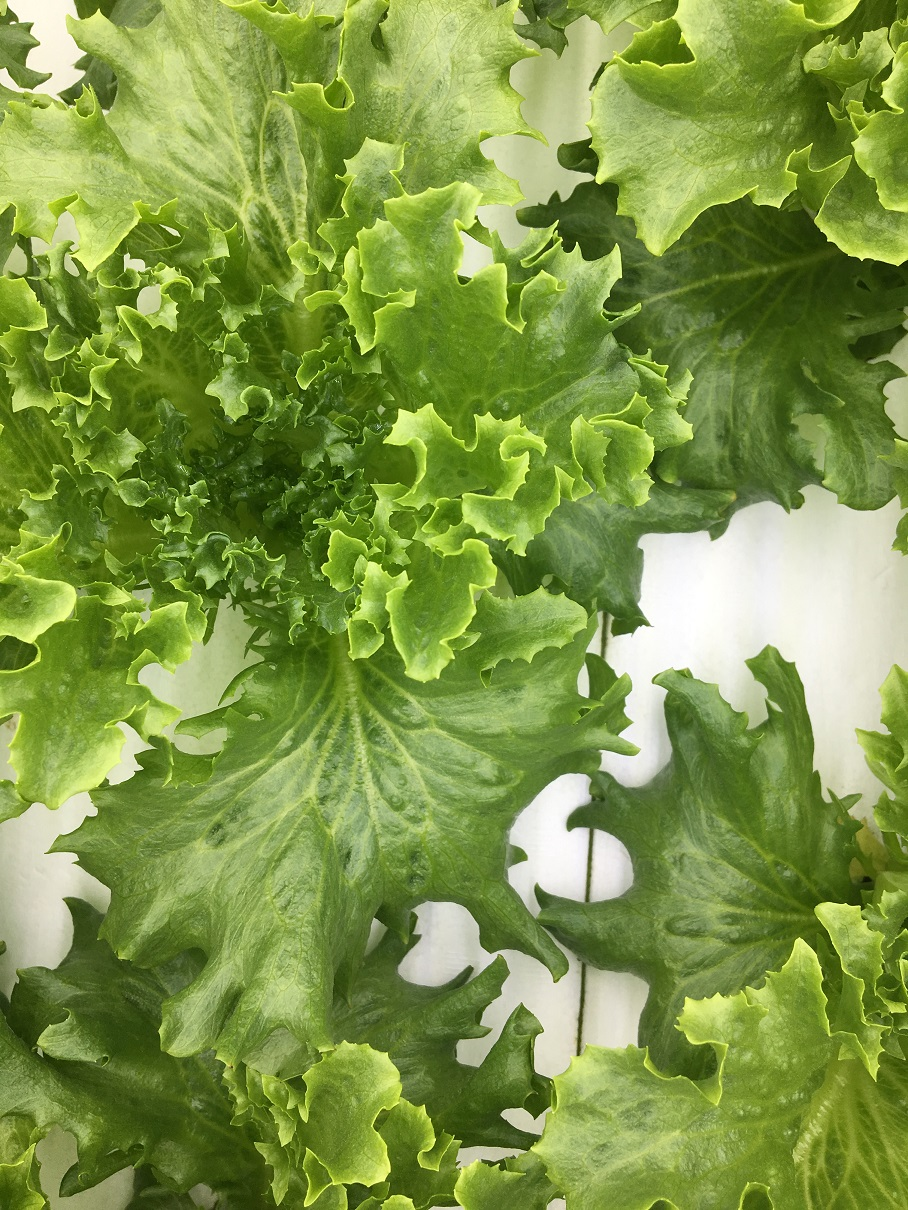tipburn: (40, 61, 66, 88)
